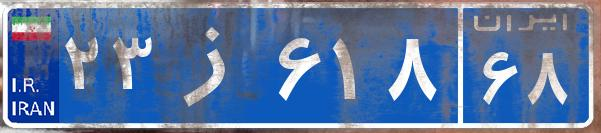1: (330, 28, 385, 110)
2: (57, 26, 110, 107)
3: (110, 28, 158, 105)
6: (273, 28, 330, 110), (475, 38, 525, 113)
8: (385, 28, 445, 110), (525, 38, 570, 115)
ز: (158, 15, 273, 115)
